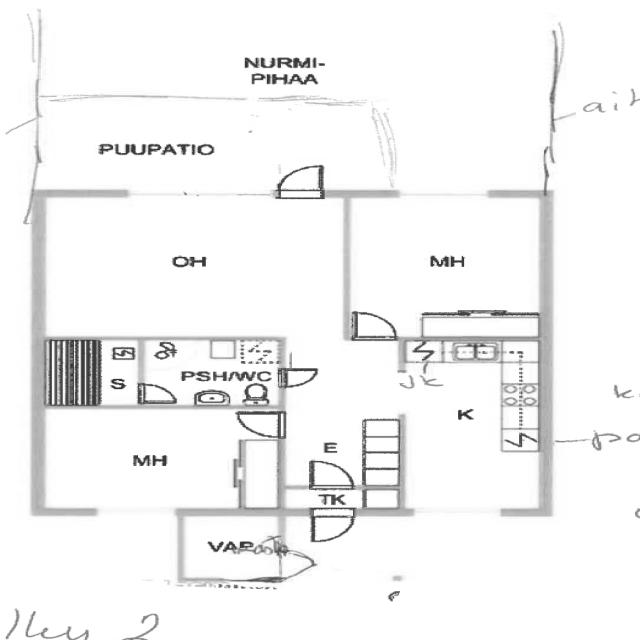door: (273, 161, 332, 200), (303, 458, 358, 499), (344, 308, 403, 342), (306, 508, 358, 545), (233, 410, 289, 439), (134, 381, 182, 405), (274, 365, 323, 388)
window: (117, 187, 288, 201), (392, 184, 504, 203), (533, 127, 564, 194), (84, 504, 182, 520), (406, 506, 508, 520)
zone: (37, 190, 351, 340), (346, 192, 549, 336), (36, 405, 284, 513), (403, 338, 547, 514), (139, 337, 282, 409), (40, 338, 141, 408), (183, 513, 281, 582)
